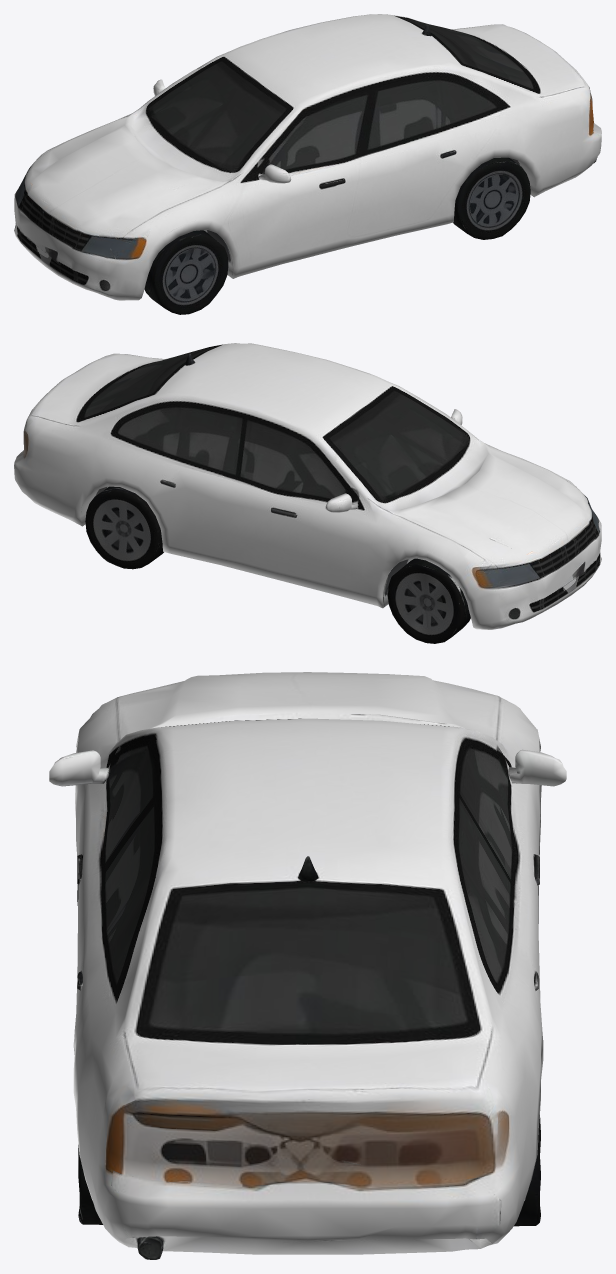
File: car_sedan.glb
3 views of the same model, one above another, from view 1: azimuth 30°, elevation 25°; view 2: azimuth 150°, elevation 25°; view 3: azimuth 270°, elevation 25° (orthographic). The views are drawn at different scales.
Size of the model in its own units: 1 by 0.3262 by 0.4336.
Materials: 1 (1 with a texture image).
